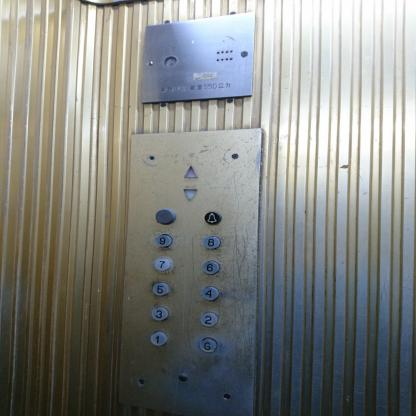1: (150, 330, 168, 347)
2: (200, 312, 218, 327)
3: (150, 306, 169, 321)
4: (201, 285, 219, 301)
5: (152, 282, 171, 296)
6: (201, 260, 220, 274)
7: (153, 257, 172, 272)
8: (202, 235, 221, 249)
9: (155, 232, 173, 249)
G: (199, 337, 218, 353)
alarm: (203, 210, 223, 226)
empty: (154, 207, 178, 226)
